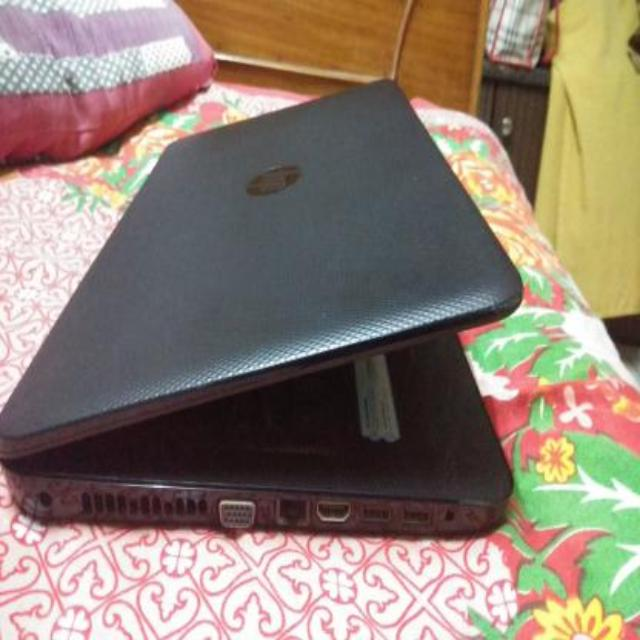Computer-Keyboard: (1, 74, 515, 538)
